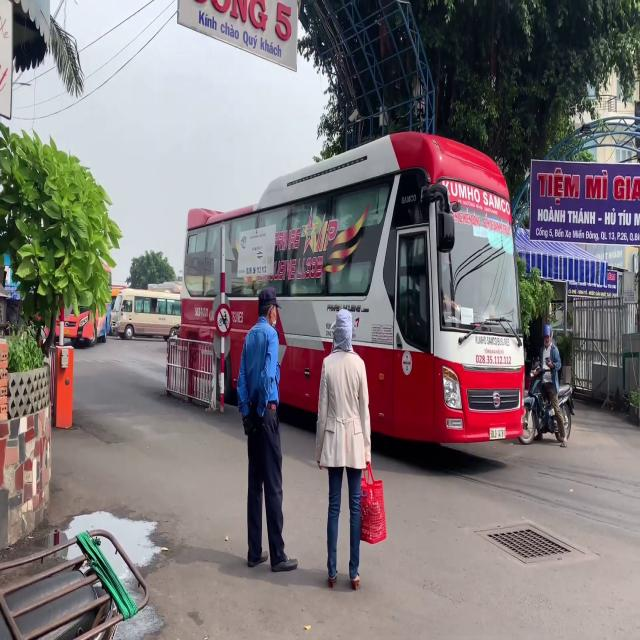bien_trang: (490, 428, 506, 439)
